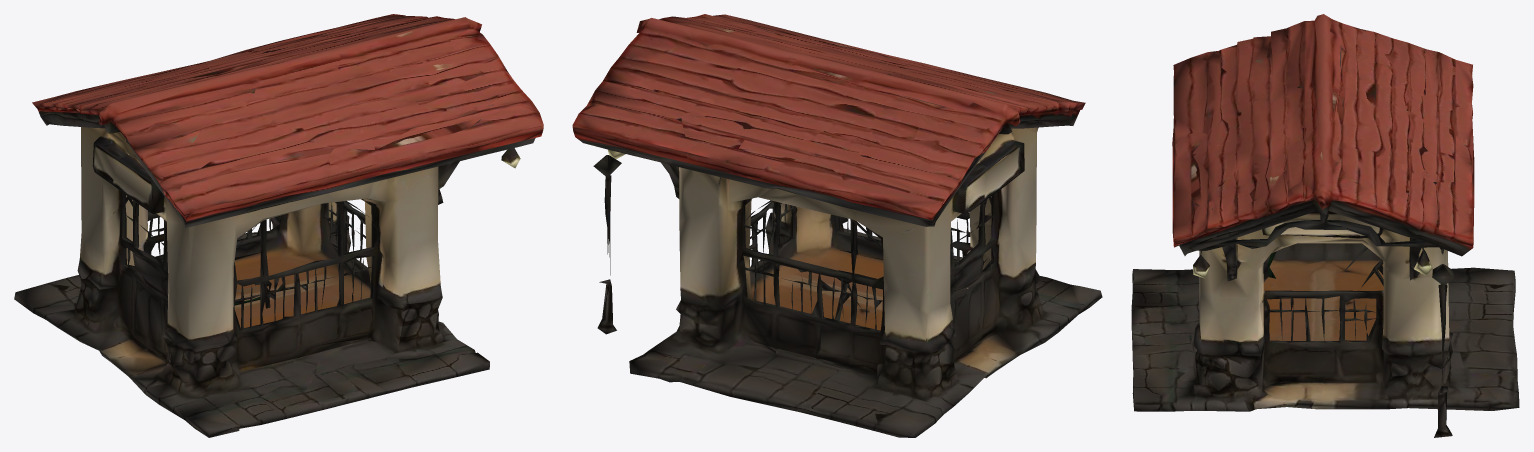
File: volcanic-station-canopy.glb
The picture shows the model from 3 angles, left to right: view 1: azimuth 30°, elevation 25°; view 2: azimuth 150°, elevation 25°; view 3: azimuth 270°, elevation 25°; orthographic projection.
Visible parts, largest first — view 1: tripo_node_41d00d87-aff5-40b8-9d4e-7106cbc9679d; view 2: tripo_node_41d00d87-aff5-40b8-9d4e-7106cbc9679d; view 3: tripo_node_41d00d87-aff5-40b8-9d4e-7106cbc9679d.
Boxes of the visible parts, x1,y1,x2,y2 form: tripo_node_41d00d87-aff5-40b8-9d4e-7106cbc9679d: (14,14,543,437); tripo_node_41d00d87-aff5-40b8-9d4e-7106cbc9679d: (572,14,1102,437); tripo_node_41d00d87-aff5-40b8-9d4e-7106cbc9679d: (1131,14,1519,437).
Bounding box in the file's own units: 3.75 × 2.5 × 3.35.
1 material, 1 textured.
